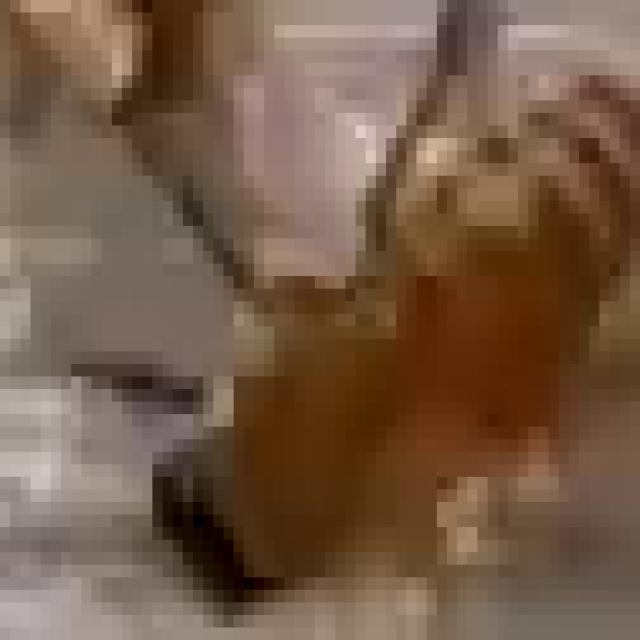honeybee: (133, 137, 630, 596)
